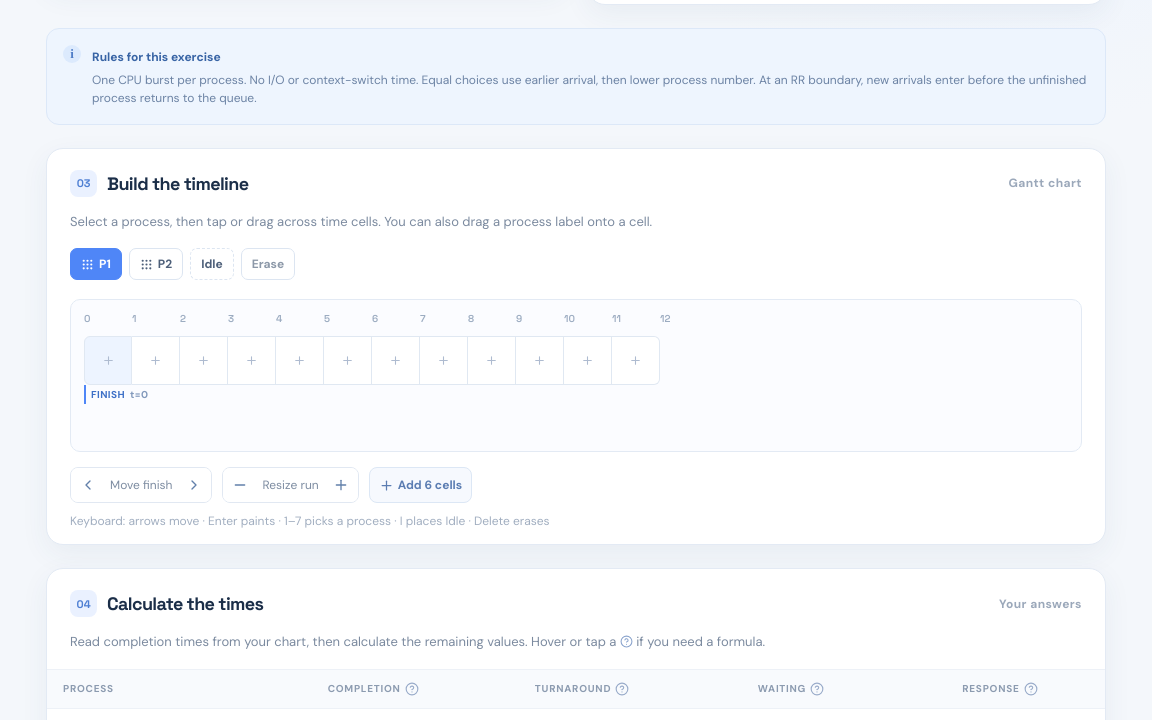
Test: settings, saving, and elapsed time › confirms before replacing unfinished work and exposes priority controls only when enabled
The width and height of the screenshot is (1152, 720).
(page scrolled)
What coordinates should you click on to do the following:
click the button named "Time 0 to 1: empty"
I would click on:
 (108, 361)
Its box is [84,336,132,385].
(page scrolled)
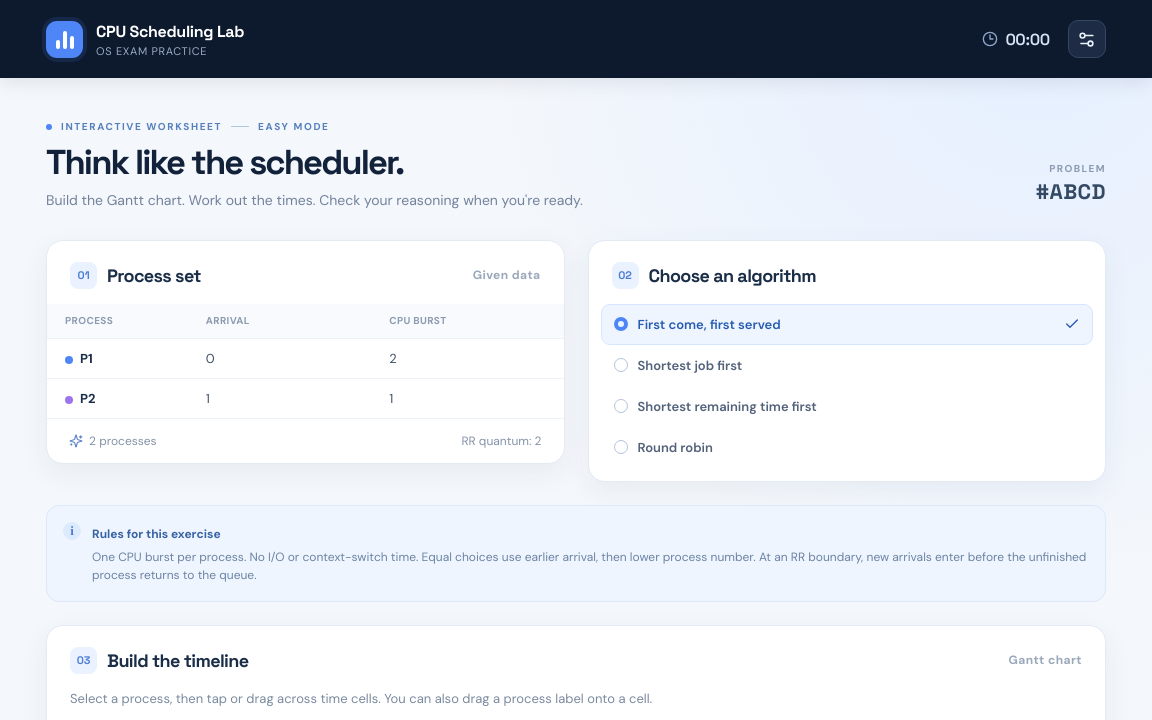
What coordinates should you click on to do the following:
click the button named "Open settings"
I would click on:
 (1087, 39)
Its box is [1068,20,1106,58].
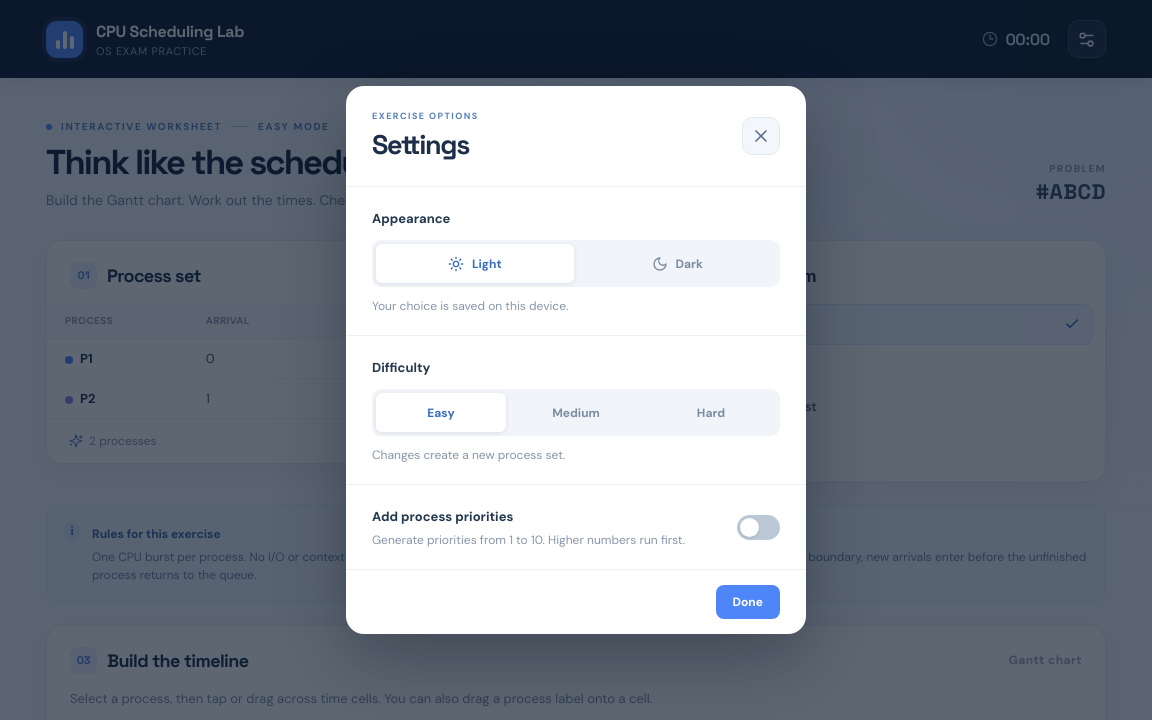
What coordinates should you click on to do the following:
click the switch
I would click on:
 (758, 527)
Its box is [737,514,780,540].
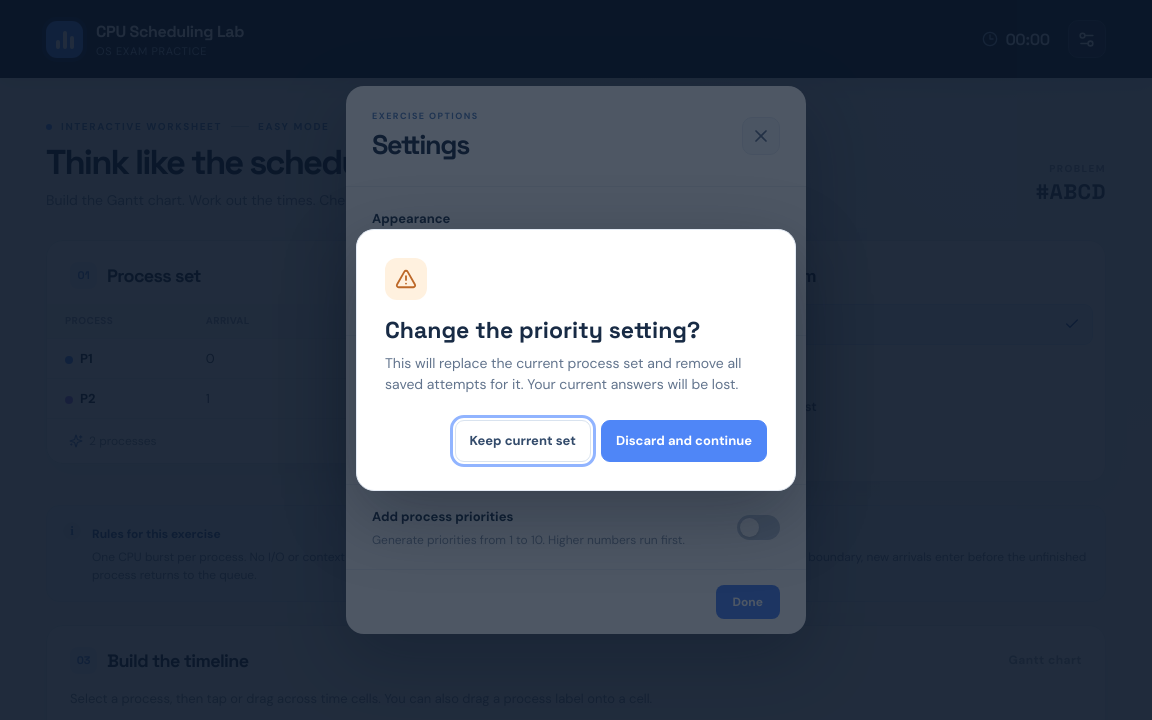
Expected: the dialog is shown, [356,229,796,491]
What coordinates should you click on to do the following:
click the button "Keep current set"
I would click on:
 (523, 441)
Its box is [454,420,591,462].
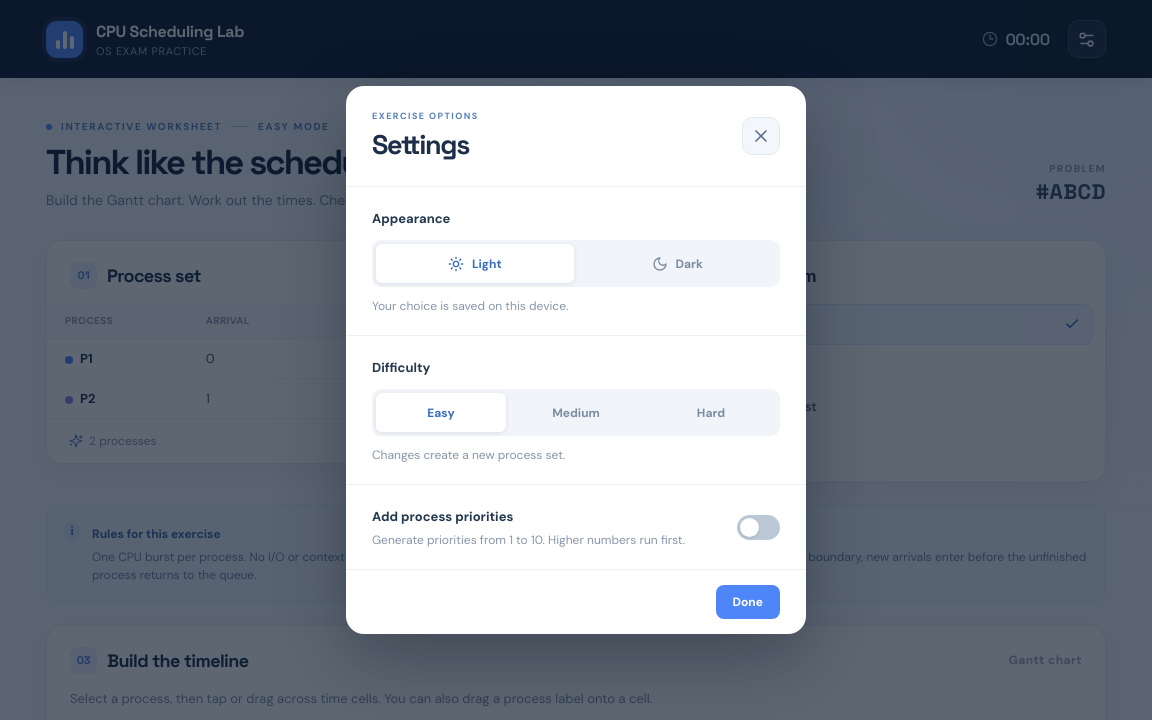
Expected: the button "Priority · nonpreemptive" is not shown
Expected: the dialog "Settings" is shown, [346,86,806,634]
What coordinates should you click on to do the following:
click the switch
I would click on:
 (758, 527)
Its box is [737,514,780,540].
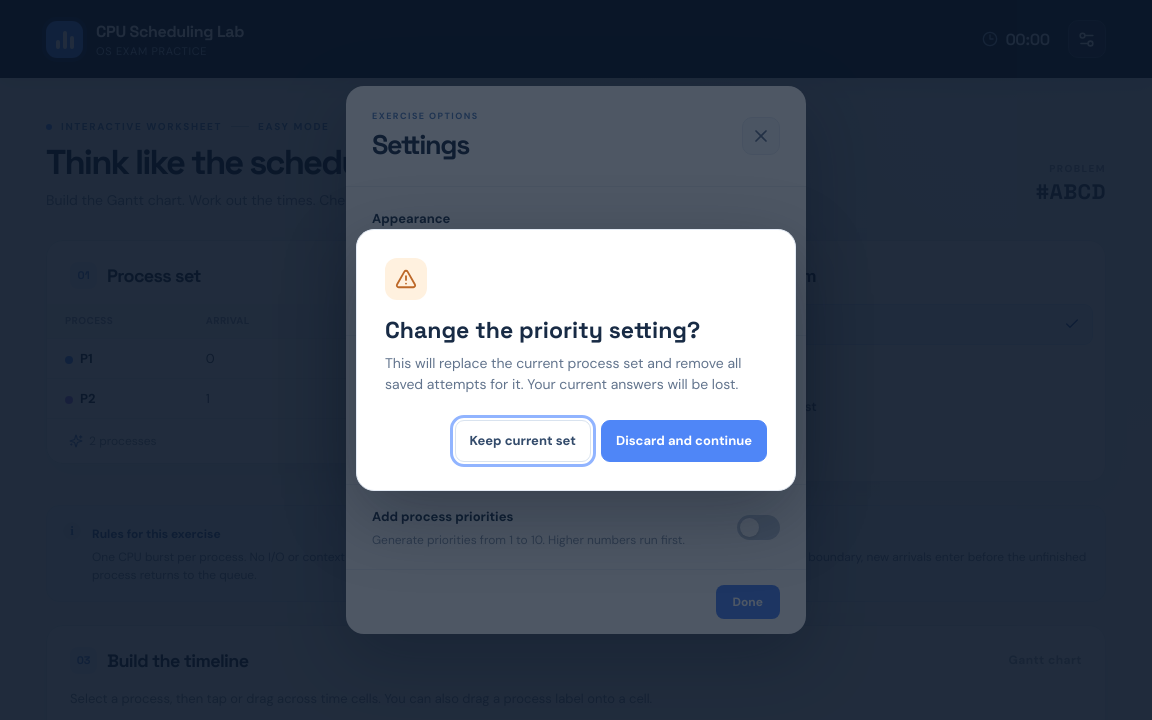
What coordinates should you click on to do the following:
click the button "Discard and continue"
I would click on:
 (684, 441)
Its box is [601,420,767,462].
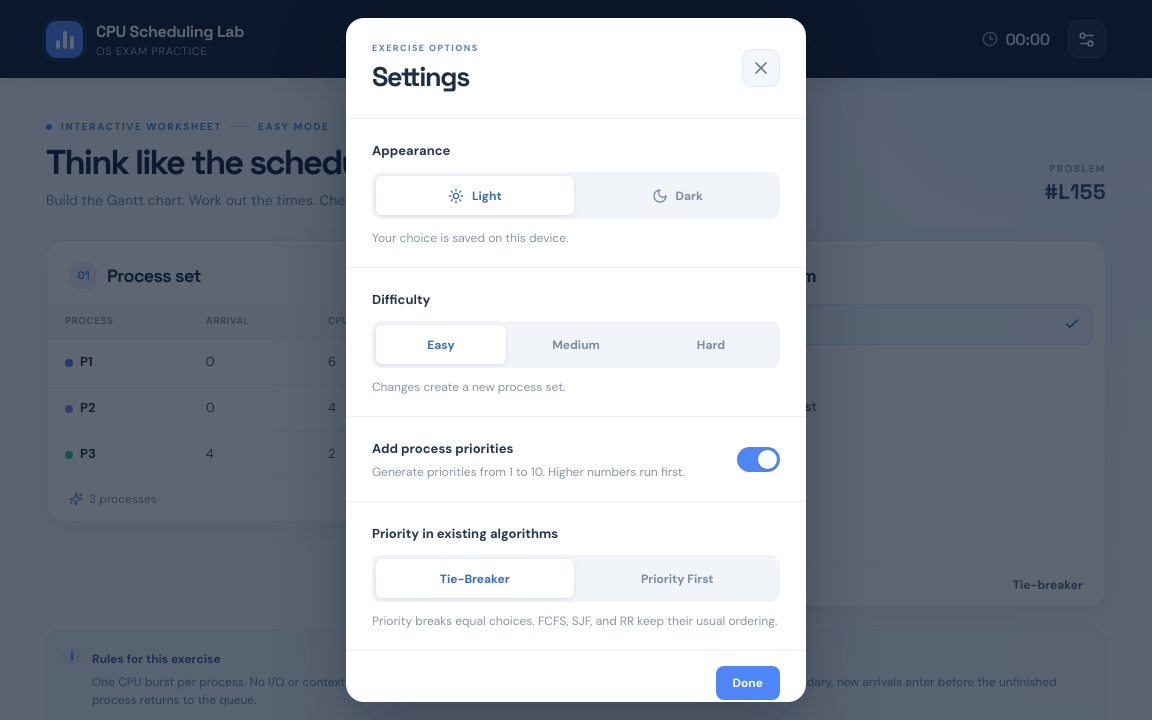
Expected: the dialog "Settings" is shown, [346,18,806,702]
Expected: the button "Priority · nonpreemptive" is shown, [600,468,1093,509]
Expected: the column heading "Priority" is shown, [441,304,564,339]
